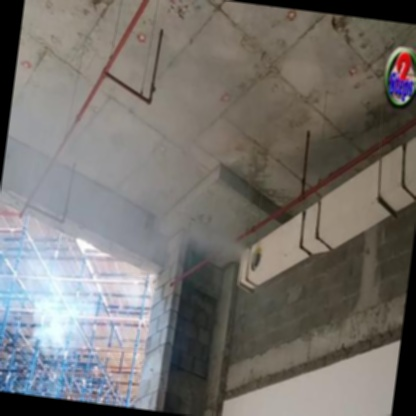smoke: (22, 221, 92, 364)
